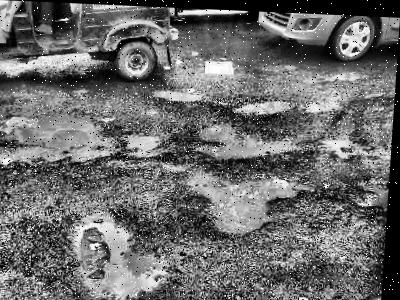pothole: (61, 203, 180, 300), (182, 162, 304, 237), (0, 103, 125, 174), (194, 117, 304, 160), (238, 91, 297, 115), (123, 128, 166, 156), (357, 175, 391, 208), (153, 85, 205, 102)
